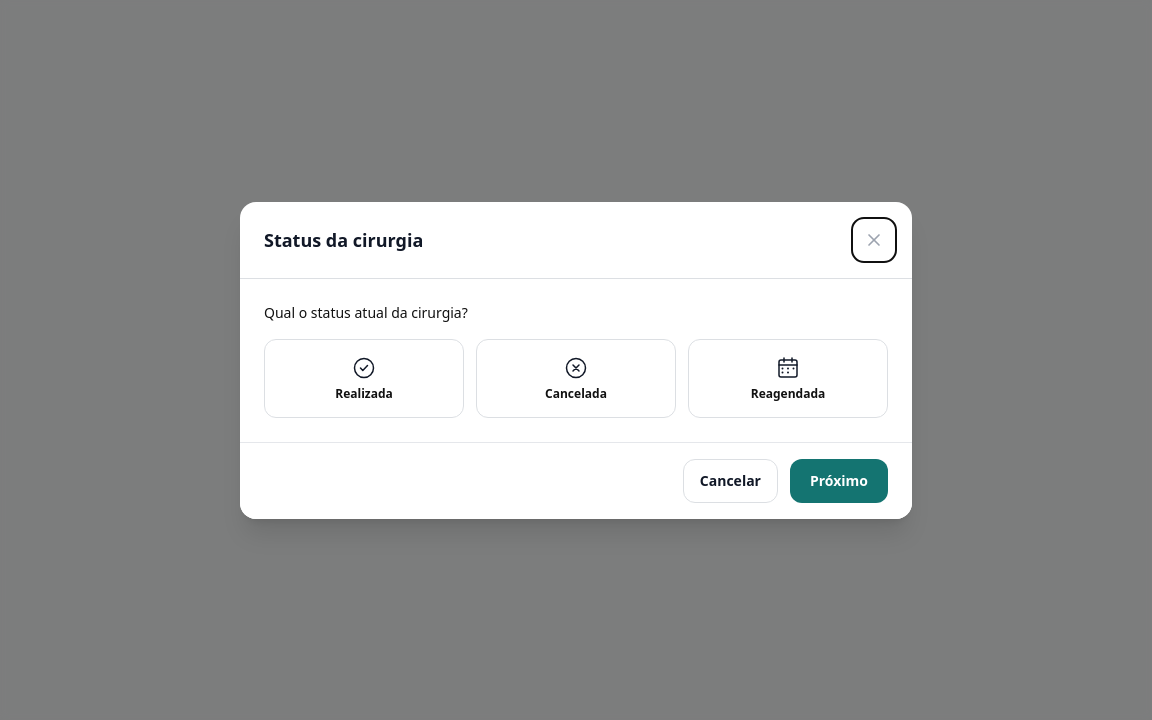
Test: SurgeryStatusModal › não avança sem escolher o status
Click the button "Próximo": (839, 480) [790,458,888,502]
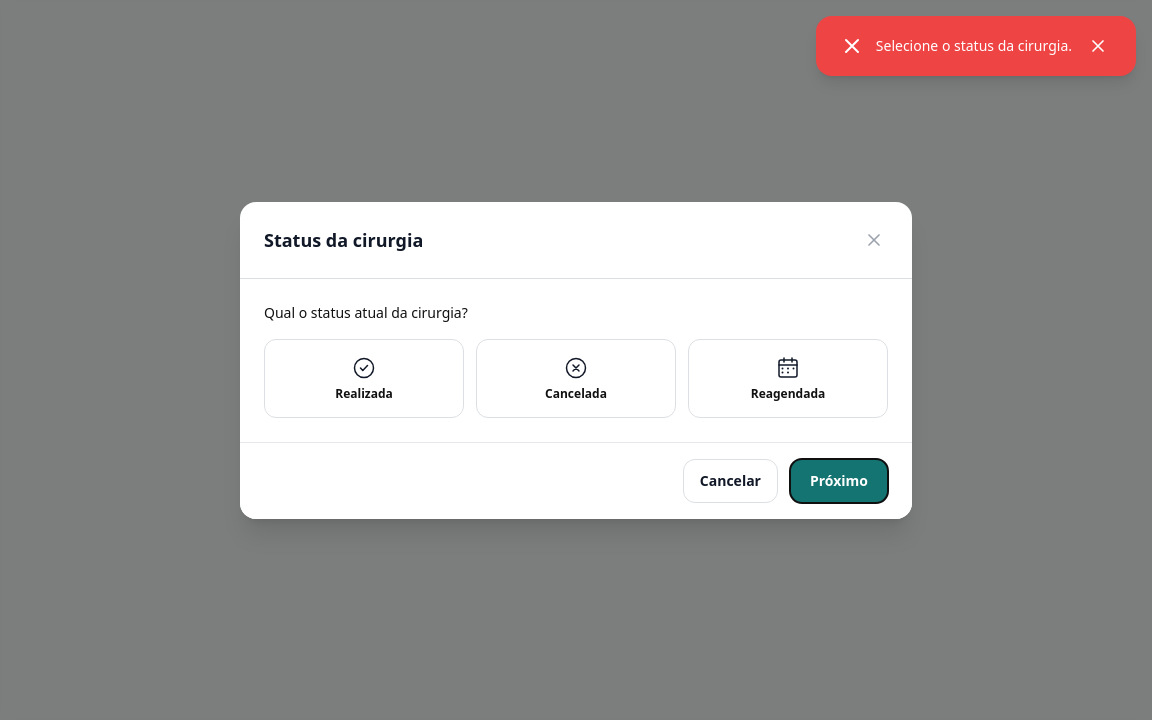
Expected: the text "Qual o status atual da cirurgia?" is shown, [264,302,468,322]
Expected: the text "Selecione o status da cirurgia." is shown, [876,36,1072,56]
